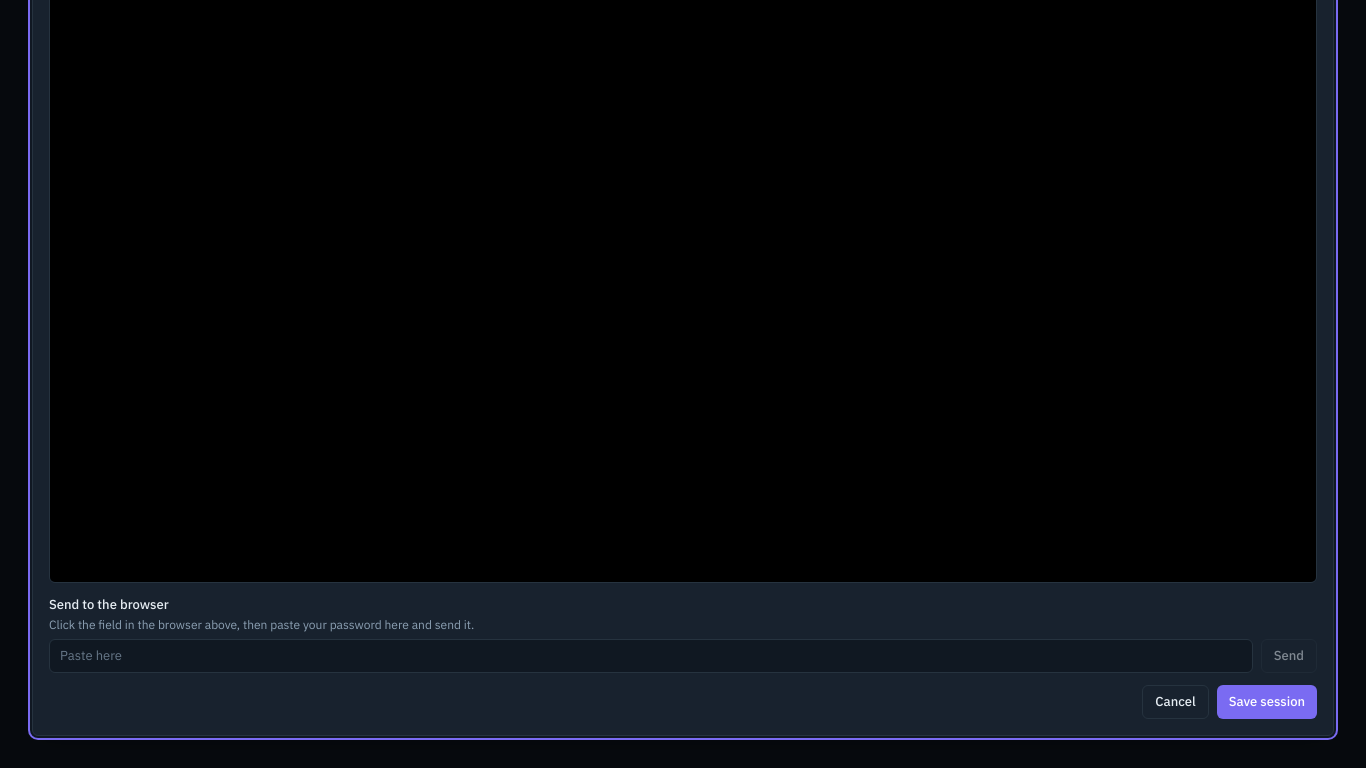
Scenario: SessionPanel › reports a session that could not be saved
(page scrolled)
Step 1. Click the button "Save session" → [1267, 702], box [1217,684,1317,718]
(page scrolled)
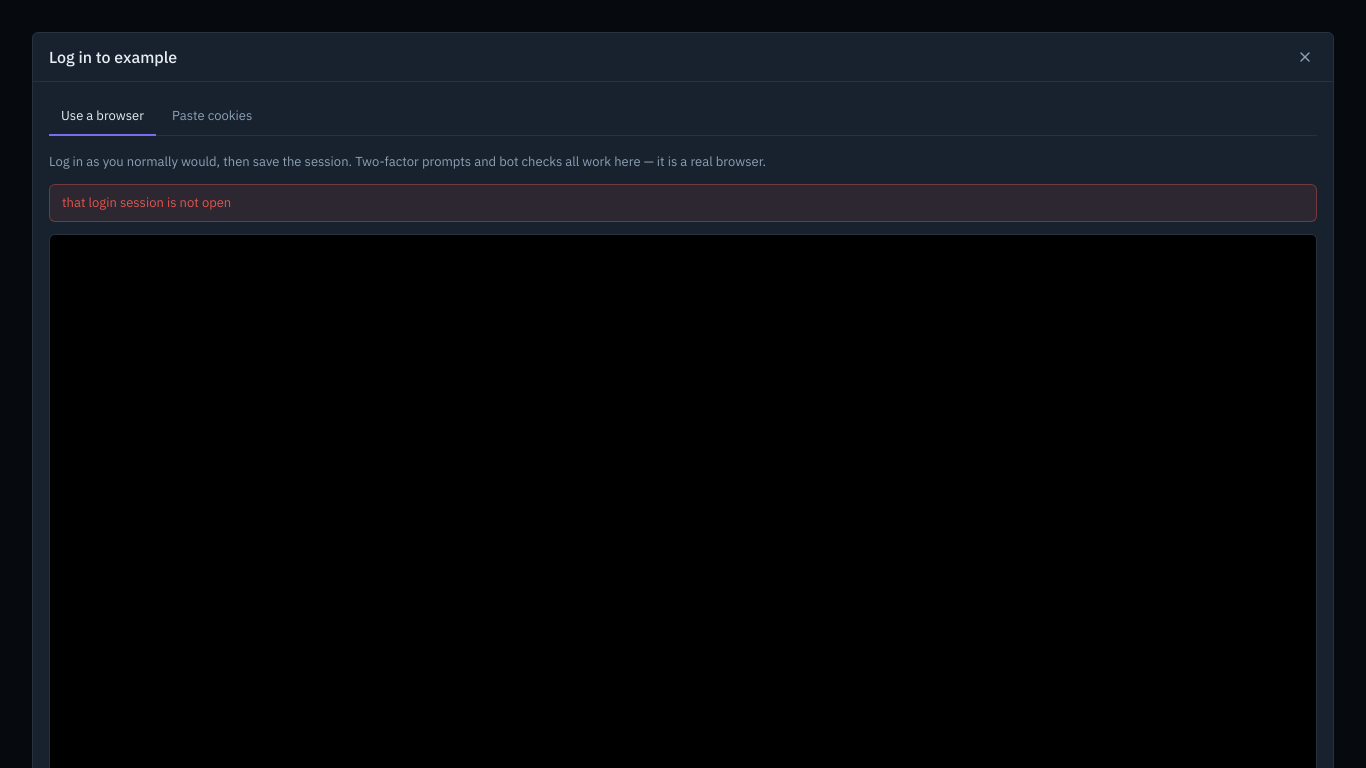
Now the message shows "not open", box [62,194,231,211]
